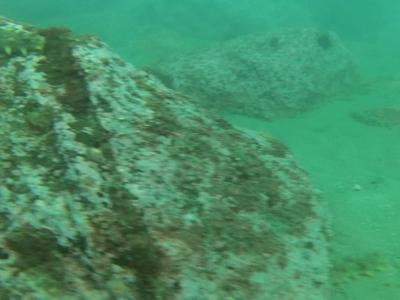holothurian: (327, 252, 386, 290), (1, 25, 53, 58)
urchin: (318, 35, 333, 55)
